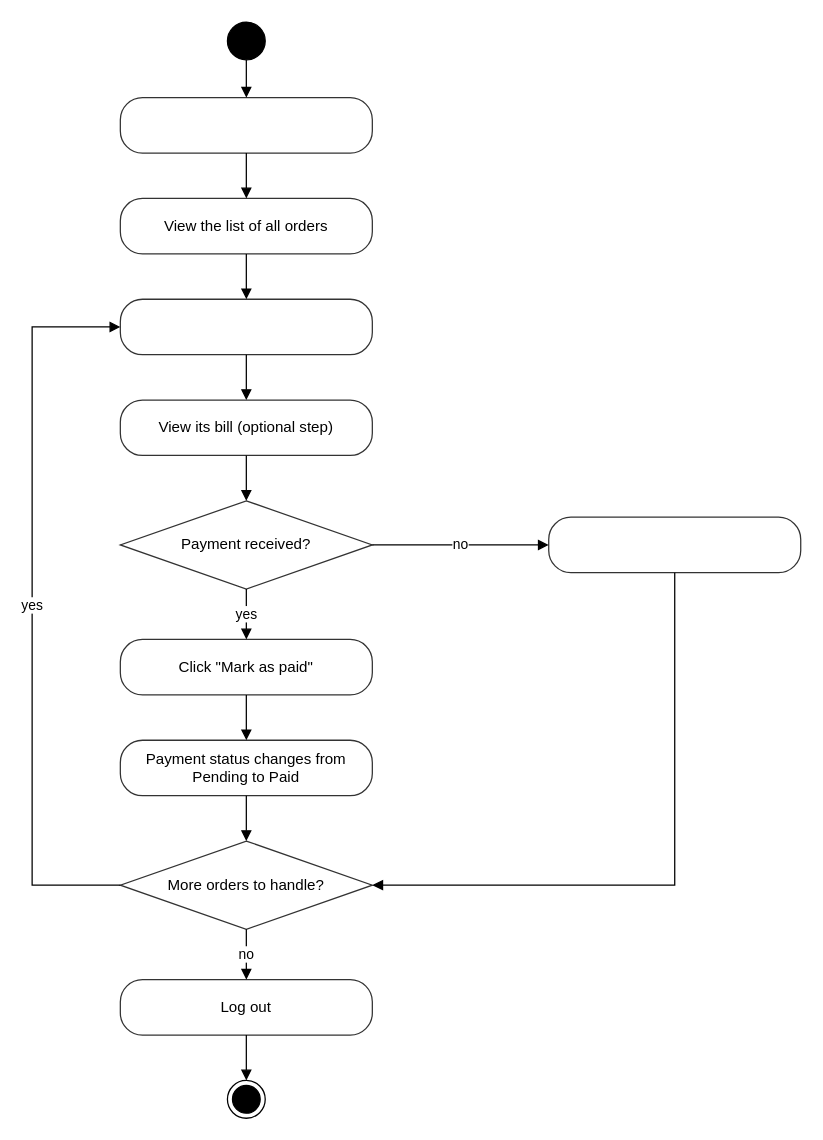
This 823x1140 diagram has some shape labels left out. The shapes that lost their labels are listed below. From the top down, each one's centre as x and y in pixels, then its label:
At point (245, 124): "Log in to the manager app".
At point (245, 326): "Select an order".
At point (674, 544): "Leave the order as Pending".
